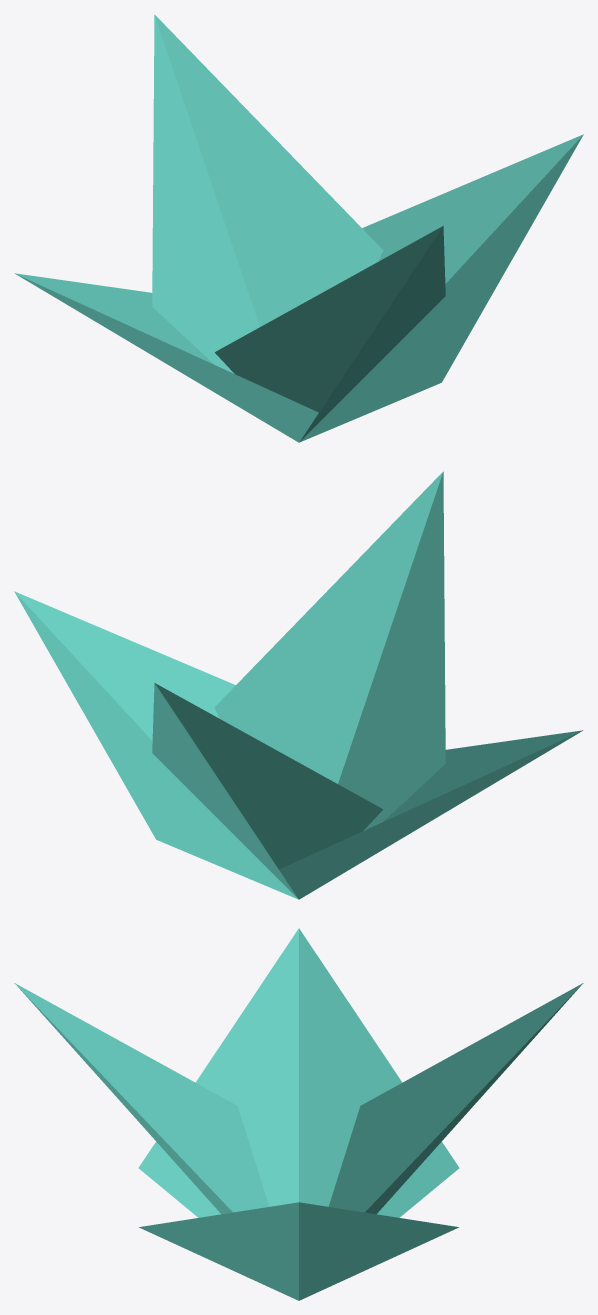
File: plant_bushSmall.glb
3 views of the same model, one above another, from view 1: azimuth 30°, elevation 25°; view 2: azimuth 150°, elevation 25°; view 3: azimuth 270°, elevation 25° (orthographic).
Parts seen in each view (by area): view 1: plant_bushSmall; view 2: plant_bushSmall; view 3: plant_bushSmall.
Part boxes in pixels (left/top/right/bottom): plant_bushSmall: left=15, top=14, right=583, bottom=442; plant_bushSmall: left=14, top=471, right=582, bottom=899; plant_bushSmall: left=14, top=928, right=583, bottom=1300.
Bounding box in the file's own units: 0.383 × 0.2073 × 0.3363.
